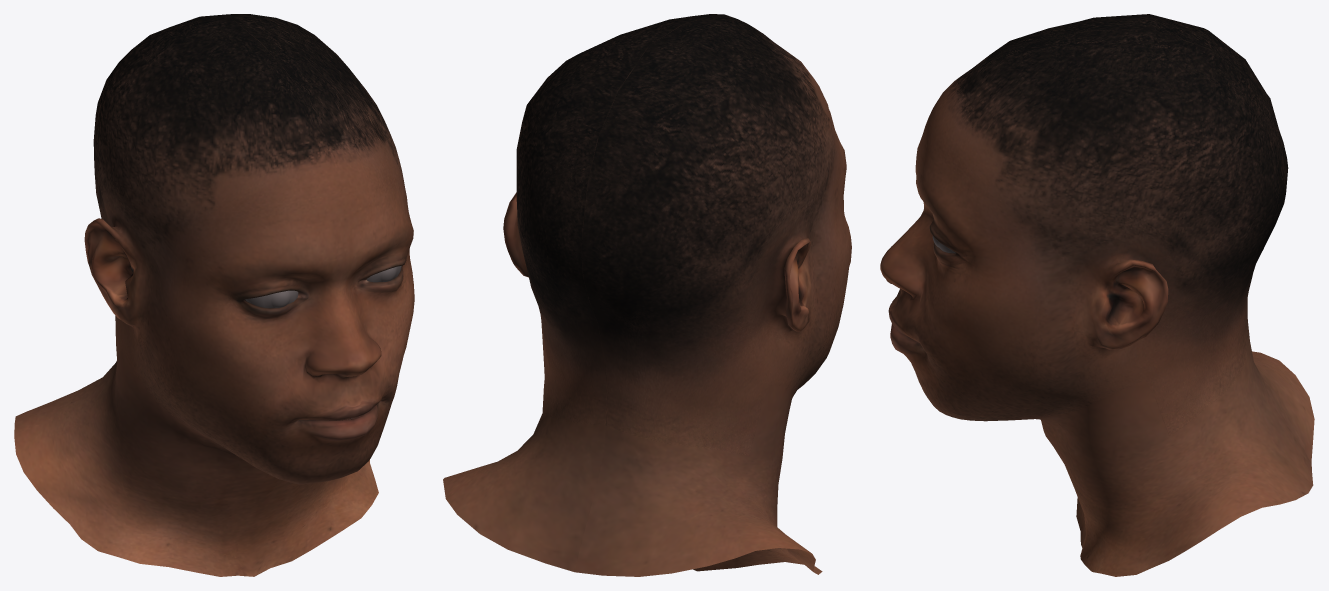
The model's file is free_basemesh_head_man.glb.
3 renders of one model, left to right at view 1: azimuth 30°, elevation 25°; view 2: azimuth 150°, elevation 25°; view 3: azimuth 270°, elevation 25°, orthographic. The views are drawn at different scales.
Parts seen in each view (by area): view 1: HEAD_4, human.HighPolyEyes_7; view 2: HEAD_4; view 3: HEAD_4.
Boxes of the visible parts, bbox=[...] form: HEAD_4: bbox=[14, 14, 414, 576]; human.HighPolyEyes_7: bbox=[245, 266, 401, 307]; HEAD_4: bbox=[443, 14, 851, 576]; HEAD_4: bbox=[880, 14, 1314, 576].
Size of the model in its own units: 12.41 by 18.15 by 13.71.
Materials: 2 (1 with a texture image).
